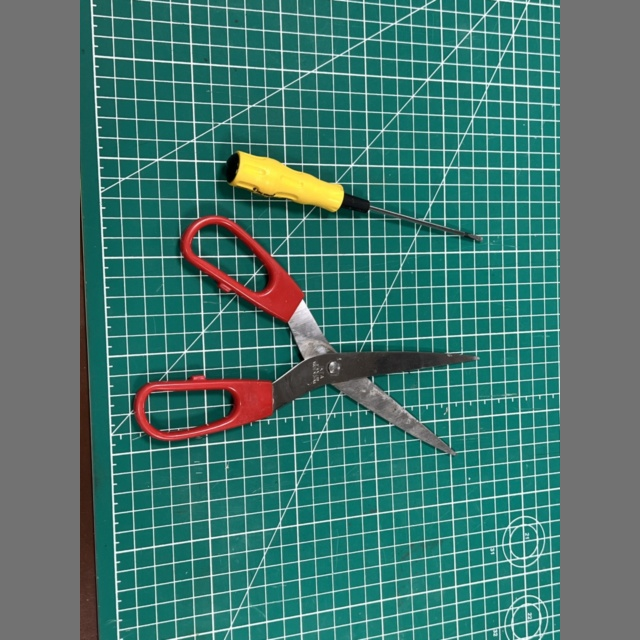scissor: (134, 216, 478, 455)
screwdriver: (226, 151, 483, 241)
